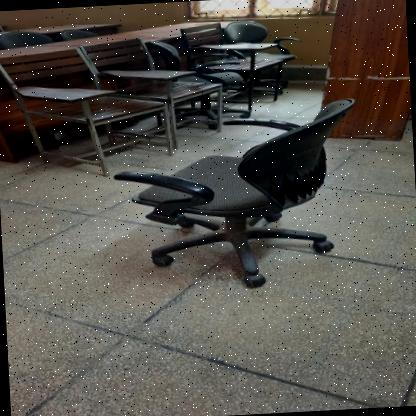chair: (111, 94, 372, 301), (0, 34, 171, 178)
